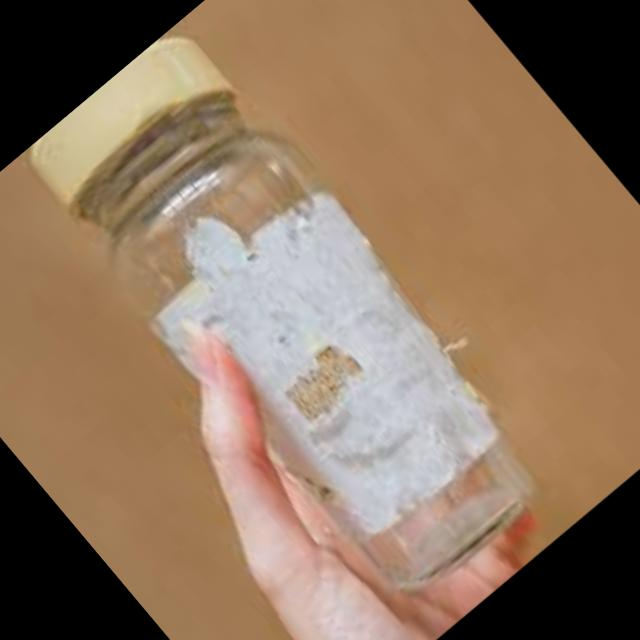ToplesKaca: (9, 16, 578, 628)
